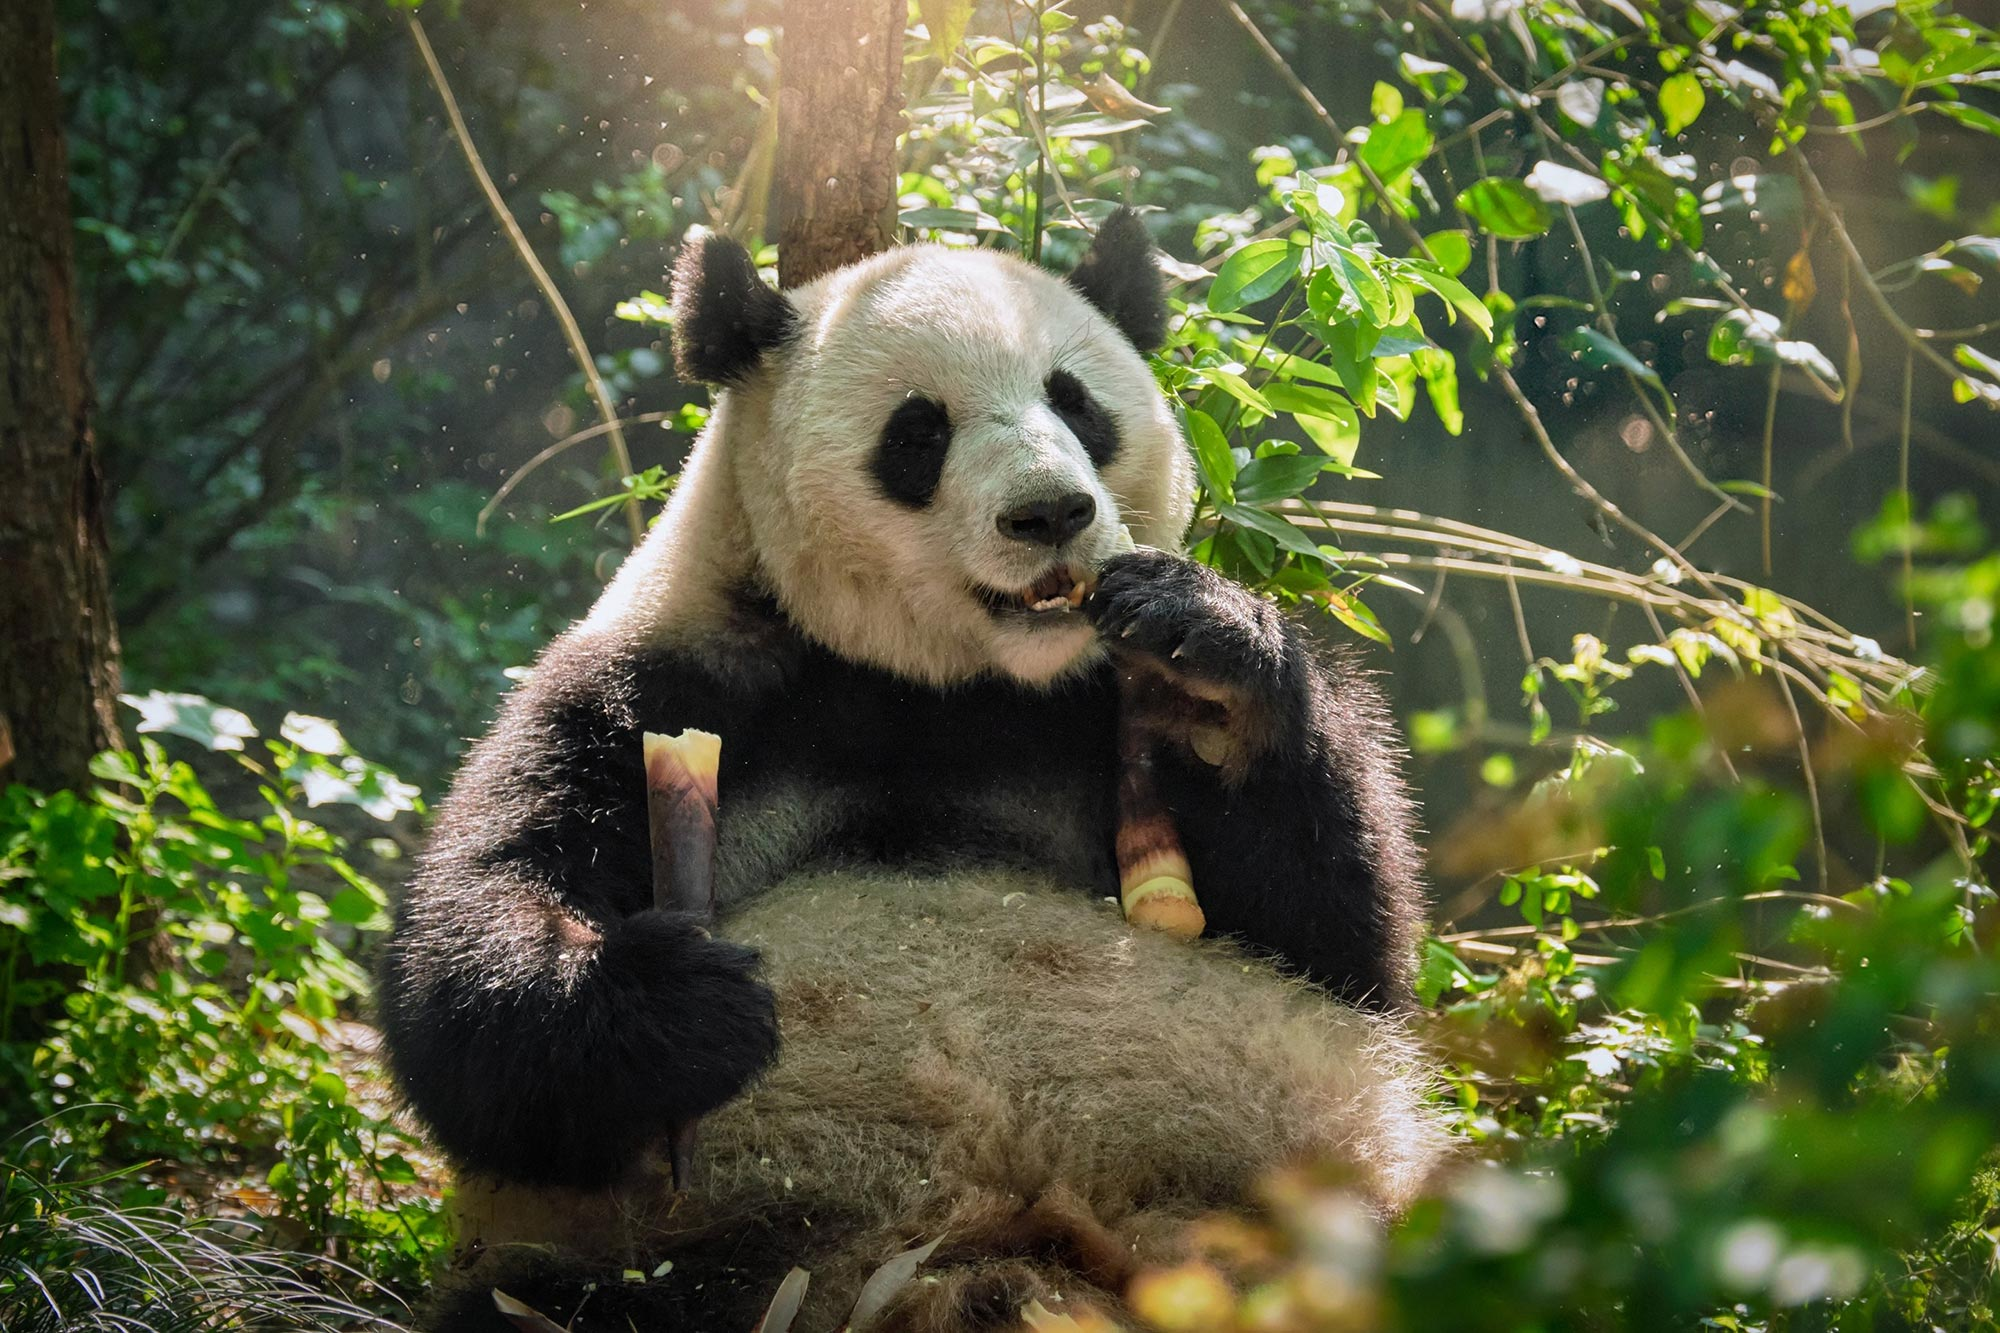panda: (399, 180, 1450, 1230)
